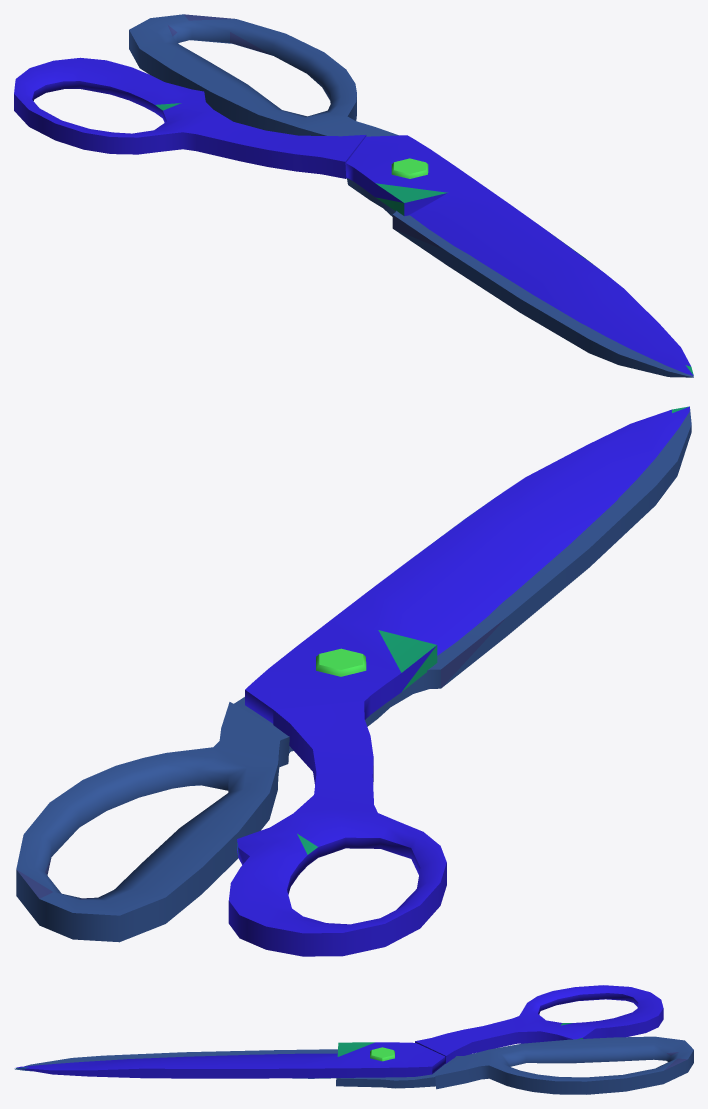
3 views of the same model, one above another, from view 1: azimuth 30°, elevation 25°; view 2: azimuth 150°, elevation 25°; view 3: azimuth 270°, elevation 25° (orthographic). The views are drawn at different scales.
Parts seen in each view (by area): view 1: 02, 01, 軸心; view 2: 02, 01, 軸心; view 3: 02, 01, 軸心.
Part boxes in pixels (bbox=[...]): 02: bbox=[14, 57, 693, 375]; 01: bbox=[129, 14, 693, 377]; 軸心: bbox=[391, 158, 428, 178]; 02: bbox=[228, 406, 689, 956]; 01: bbox=[16, 409, 691, 942]; 軸心: bbox=[316, 648, 366, 676]; 02: bbox=[14, 985, 663, 1078]; 01: bbox=[15, 1036, 693, 1094]; 軸心: bbox=[370, 1047, 394, 1061].
Size of the model in its own units: 9.77 by 1.22 by 29.72.
